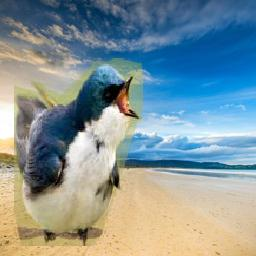Swallow: (15, 58, 144, 246)
